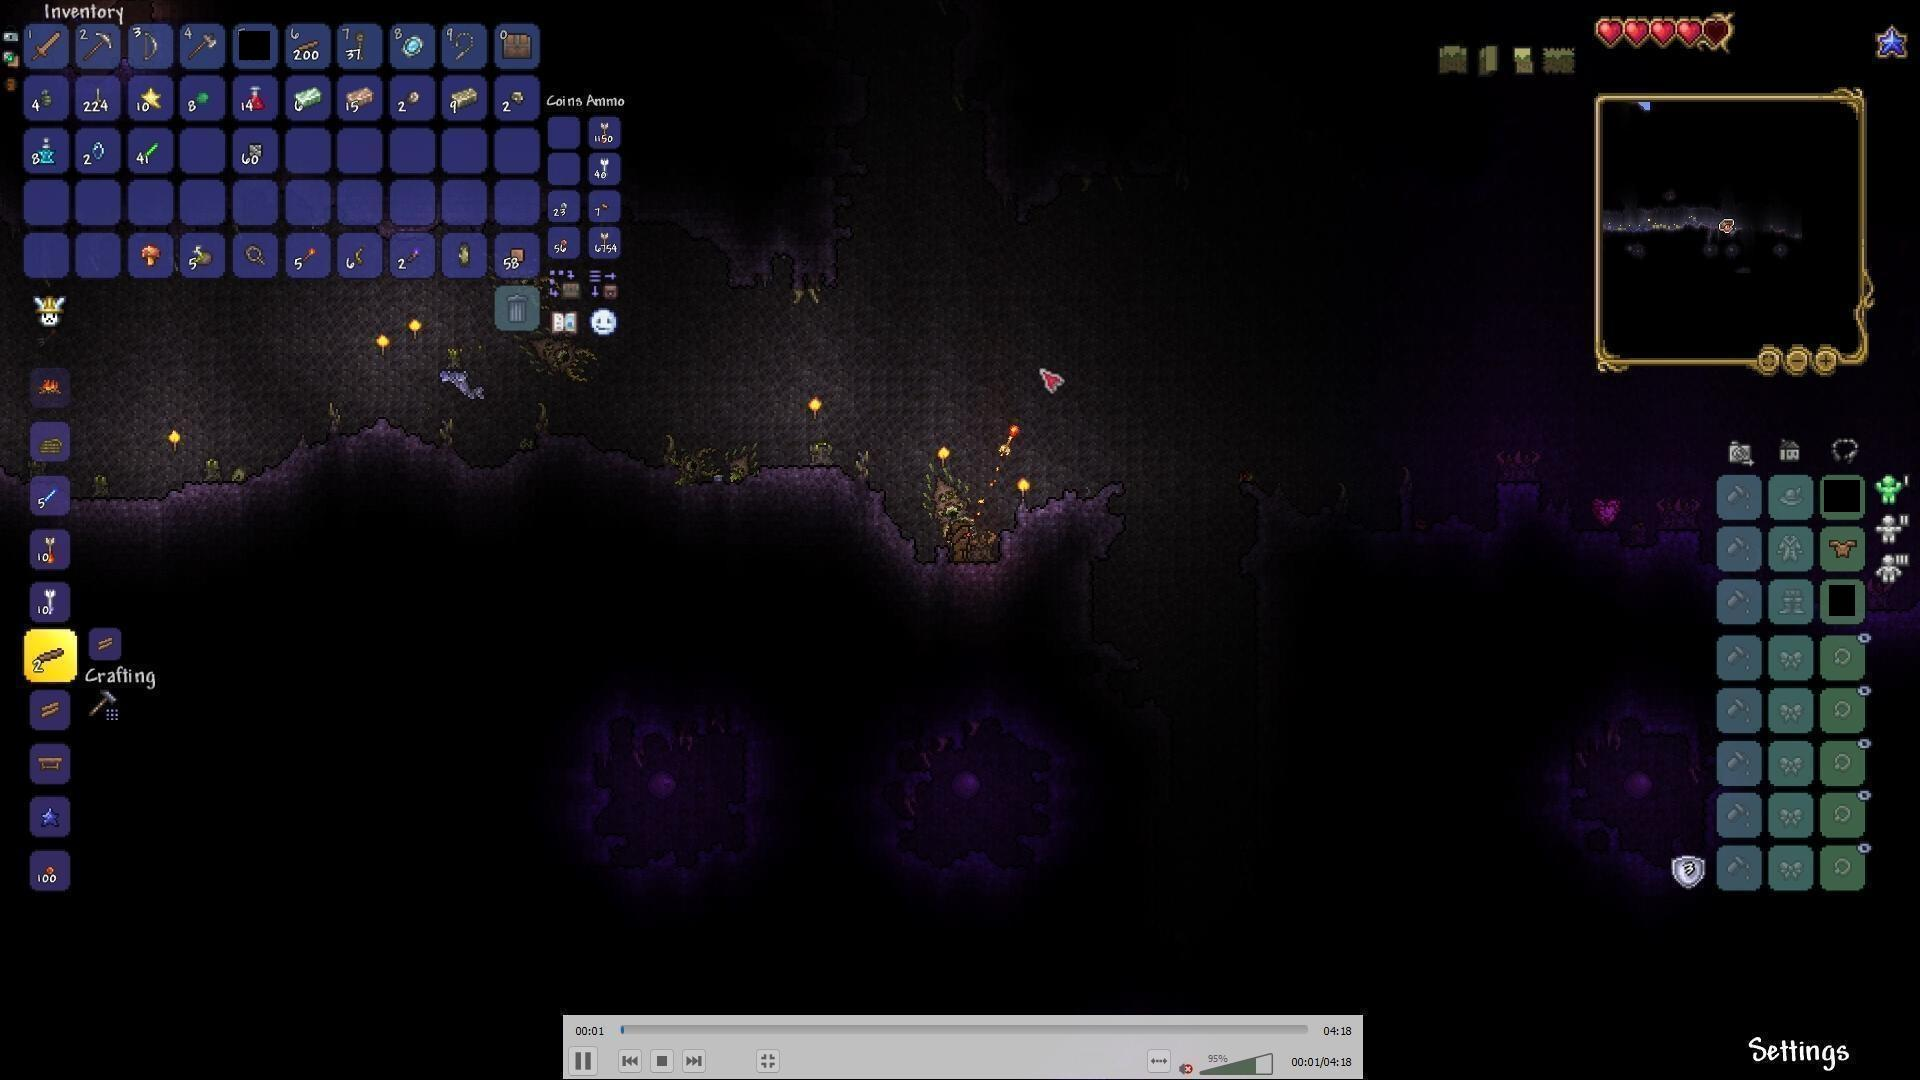breastplate: (1829, 535, 1859, 558)
wood: (33, 694, 63, 723), (87, 632, 117, 659)
workbench: (33, 749, 69, 777)
